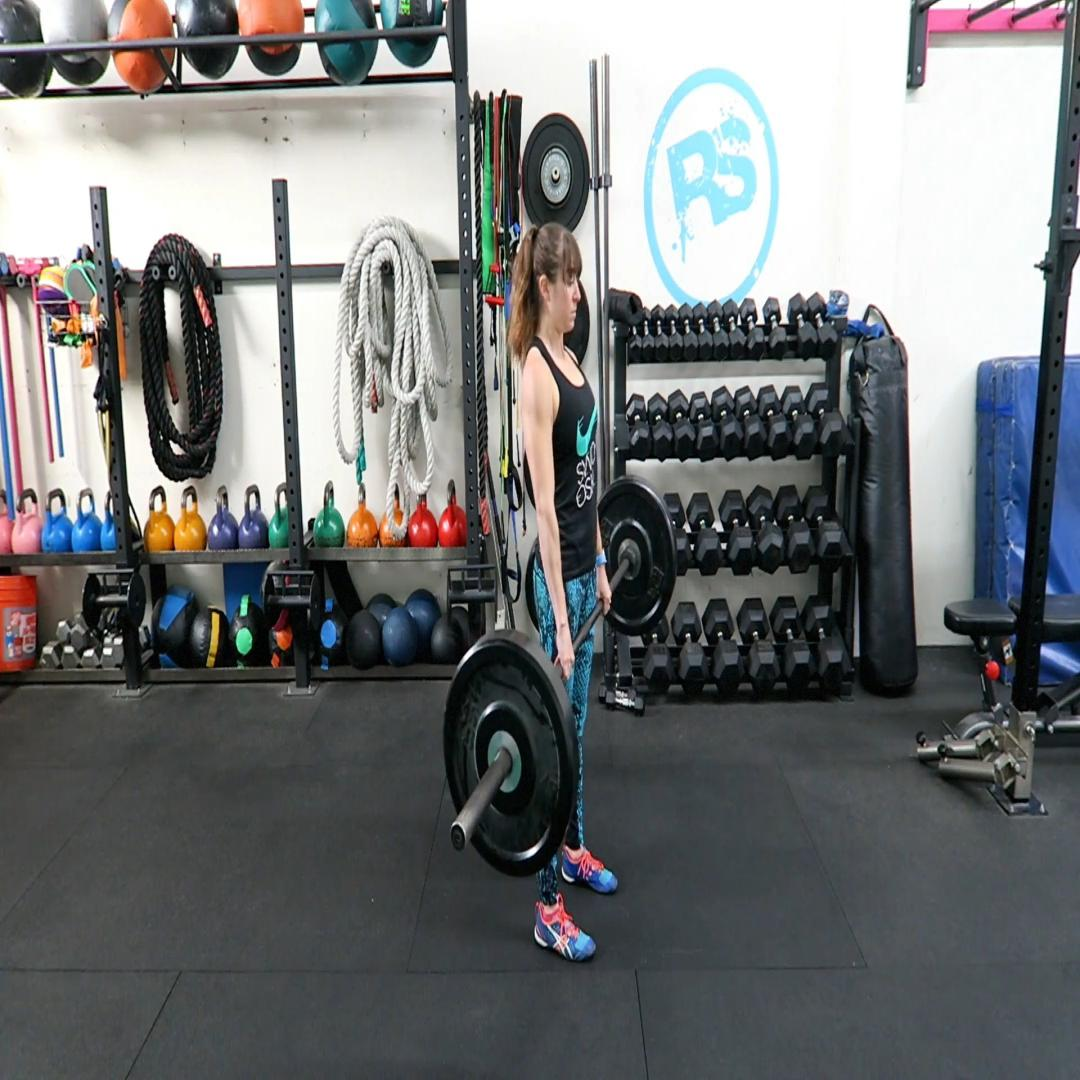Bar: (450, 823, 466, 854)
Barbell: (442, 641, 572, 878)
